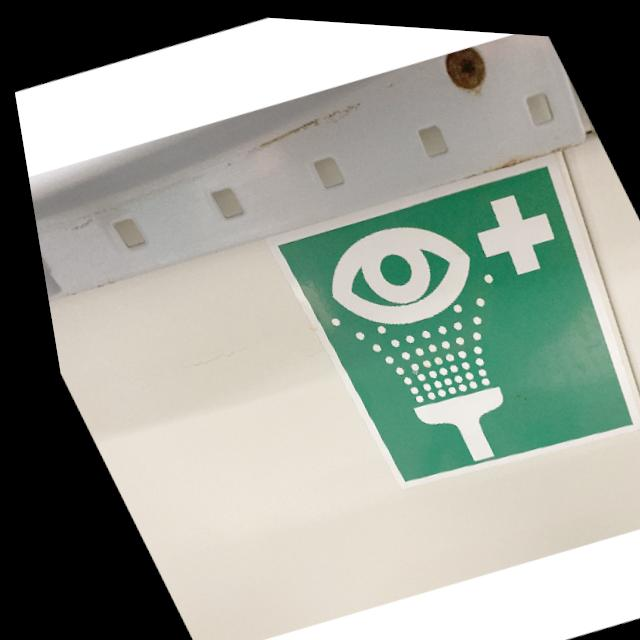eye shower: (241, 128, 640, 513)
